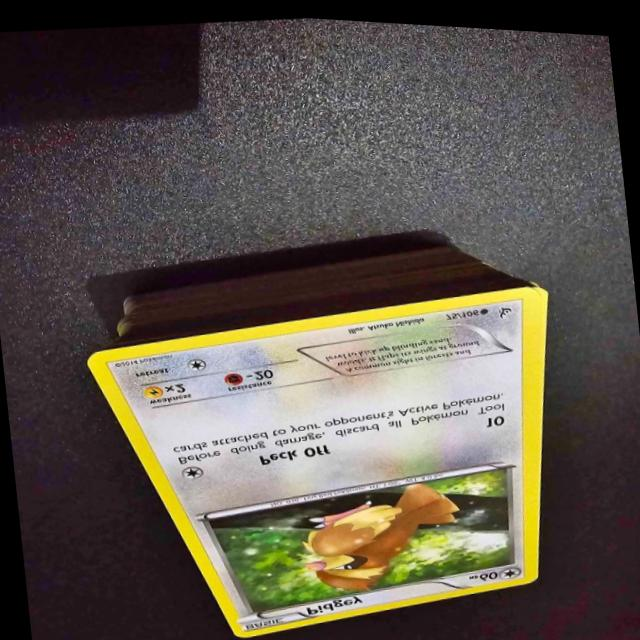card: (86, 279, 545, 635)
